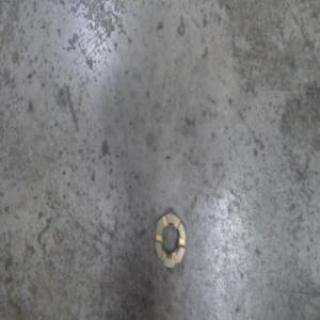Nuttrack_idkeyframe: (152, 206, 186, 270)
